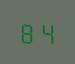eight: (19, 19, 36, 43)
four: (37, 19, 54, 44)
